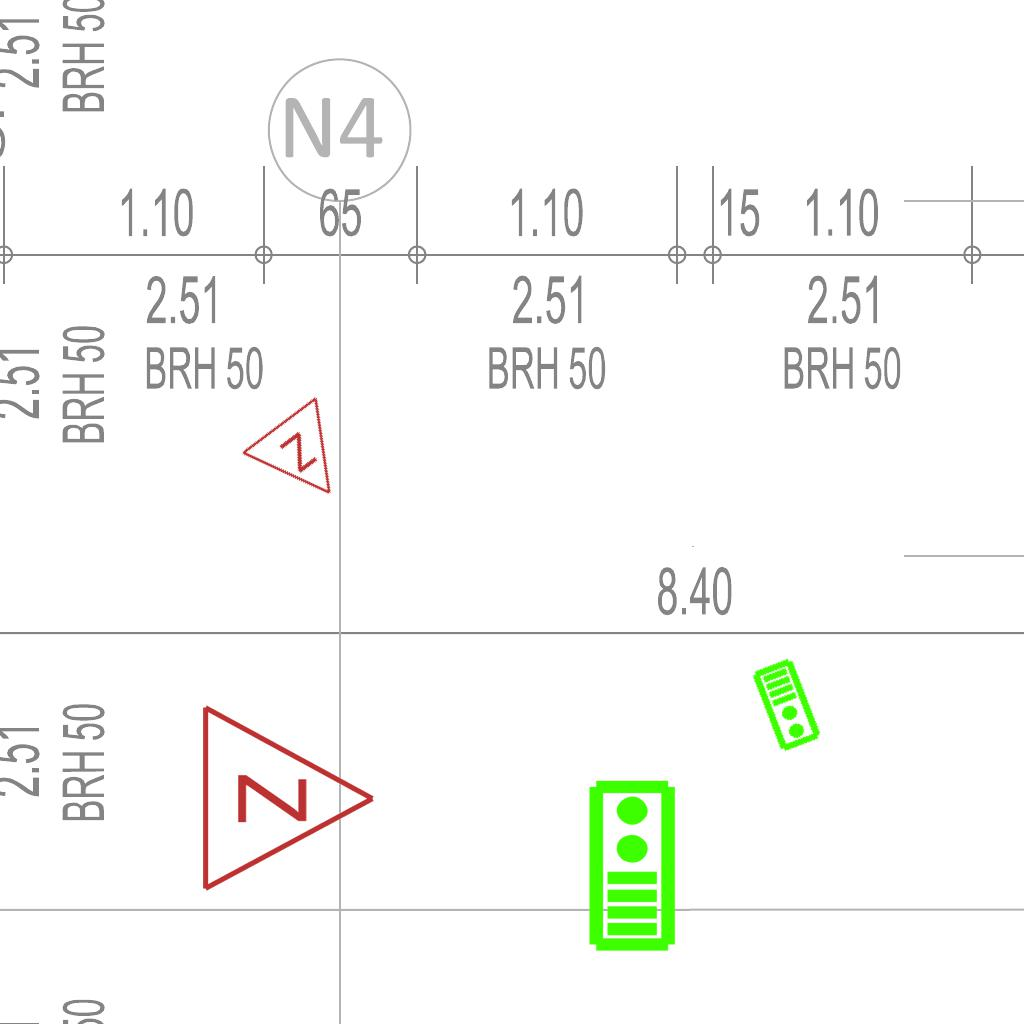Gegensprechanlage_mit_Video: (583, 777, 678, 953), (749, 655, 826, 755)
Zimmersignalleuchte: (188, 698, 388, 894), (235, 388, 375, 528)
